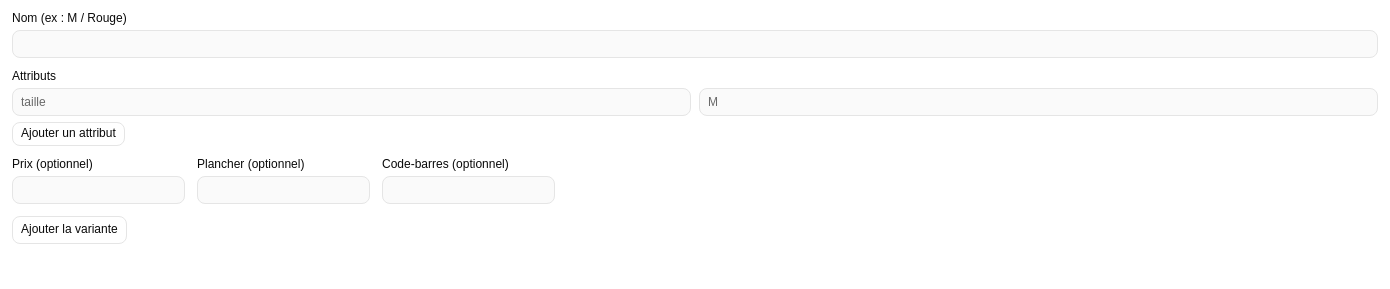
Scenario: FormulaireVariantes › refuse d'ajouter une variante sans nom
Step 1. Click the button "Ajouter la variante" → (69, 230), box [12,216,127,244]
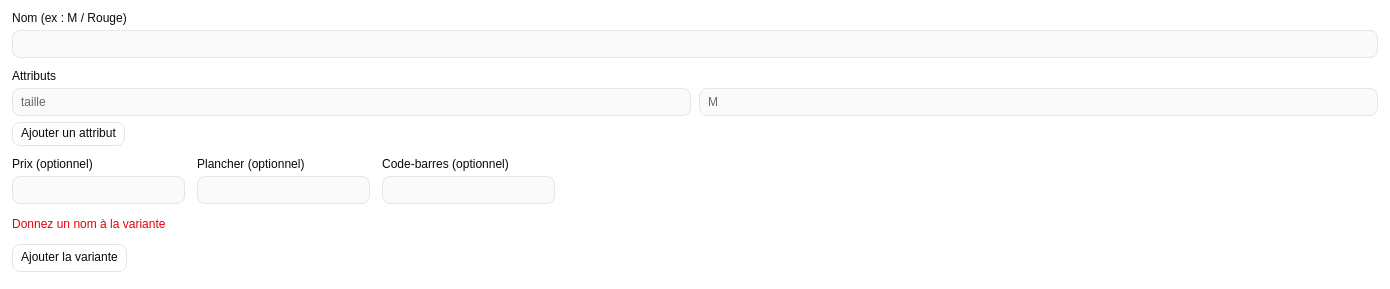
Result: the message shows "nom" at [12,217,165,231]
